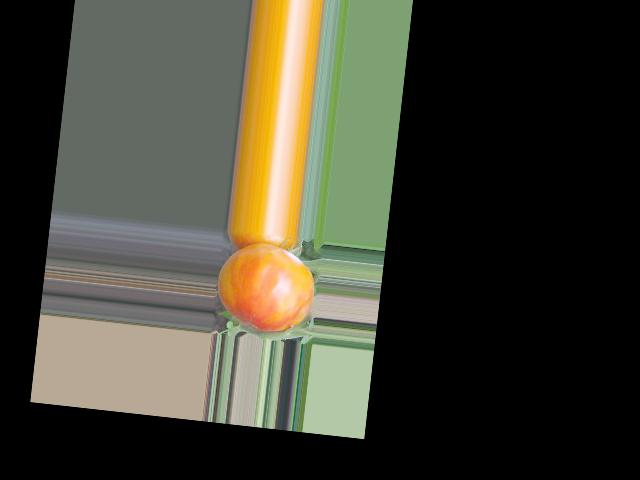tomato: (213, 239, 318, 335)
